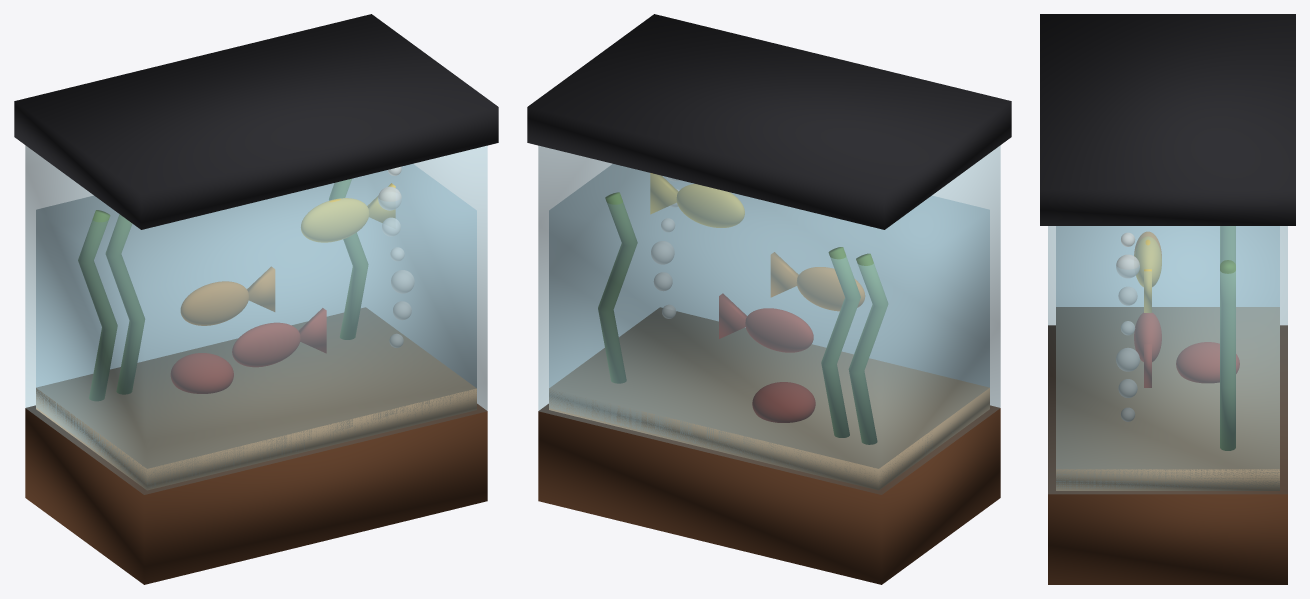
The model's file is fish-aquarium.glb.
3 views of the same model, side by side, from view 1: azimuth 30°, elevation 25°; view 2: azimuth 150°, elevation 25°; view 3: azimuth 270°, elevation 25° (orthographic).
Visible parts, largest first — view 1: part1, part2, part3, part0, part4, part11, part9, part5, part7, part14; view 2: part1, part2, part3, part0, part4, part11, part9, part7, part5, part14; view 3: part1, part3, part2, part4, part0, part11, part9, part14, part7.
Boxes of the visible parts, bbox=[...] form: part1: bbox=[25, 145, 487, 494]; part2: bbox=[36, 164, 476, 468]; part3: bbox=[14, 14, 498, 229]; part0: bbox=[25, 404, 487, 584]; part4: bbox=[36, 307, 476, 490]; part11: bbox=[78, 179, 368, 400]; part9: bbox=[171, 308, 326, 393]; part5: bbox=[181, 266, 274, 325]; part7: bbox=[301, 183, 395, 242]; part14: bbox=[378, 167, 414, 347]; part1: bbox=[538, 145, 1000, 494]; part2: bbox=[549, 164, 989, 468]; part3: bbox=[527, 14, 1011, 229]; part0: bbox=[538, 404, 1000, 584]; part4: bbox=[549, 307, 989, 490]; part11: bbox=[598, 192, 887, 444]; part9: bbox=[719, 293, 815, 422]; part7: bbox=[650, 173, 744, 227]; part5: bbox=[771, 252, 864, 310]; part14: bbox=[651, 177, 679, 318]; part1: bbox=[1048, 226, 1287, 493]; part3: bbox=[1040, 14, 1295, 225]; part2: bbox=[1056, 226, 1279, 487]; part4: bbox=[1056, 307, 1279, 490]; part0: bbox=[1048, 325, 1287, 584]; part11: bbox=[1220, 226, 1235, 450]; part9: bbox=[1134, 313, 1239, 387]; part14: bbox=[1116, 232, 1139, 421]; part7: bbox=[1134, 236, 1161, 312].
Bounding box in the file's own units: 0.9455 × 1 × 0.5818.
